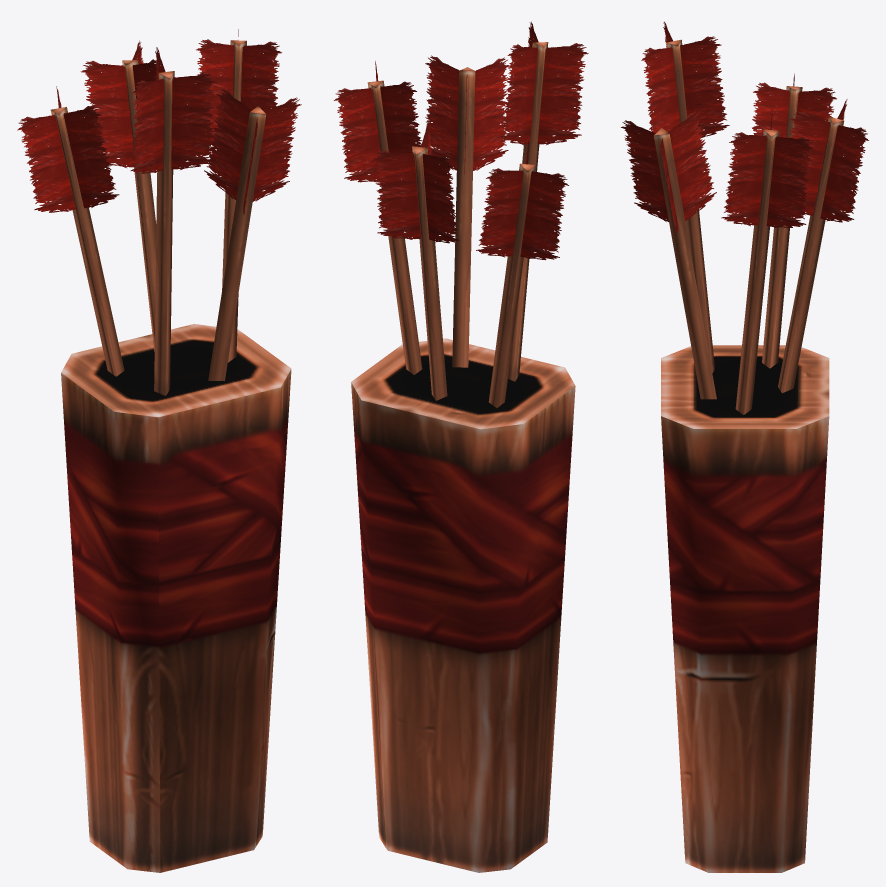
Rendered from quiver.FBX.
3 renders of one model, left to right at view 1: azimuth 30°, elevation 25°; view 2: azimuth 150°, elevation 25°; view 3: azimuth 270°, elevation 25°, orthographic. The views are drawn at different scales.
Parts seen in each view (by area): view 1: Box203; view 2: Box203; view 3: Box203.
Part boxes in pixels (bbox=[...]): Box203: bbox=[17, 29, 301, 872]; Box203: bbox=[334, 21, 588, 872]; Box203: bbox=[621, 21, 868, 872].
Bounding box in the file's own units: 56.58 × 188 × 54.45.
